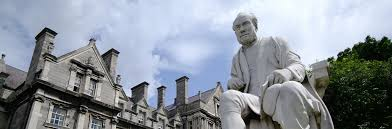person-like: (215, 8, 334, 129)
